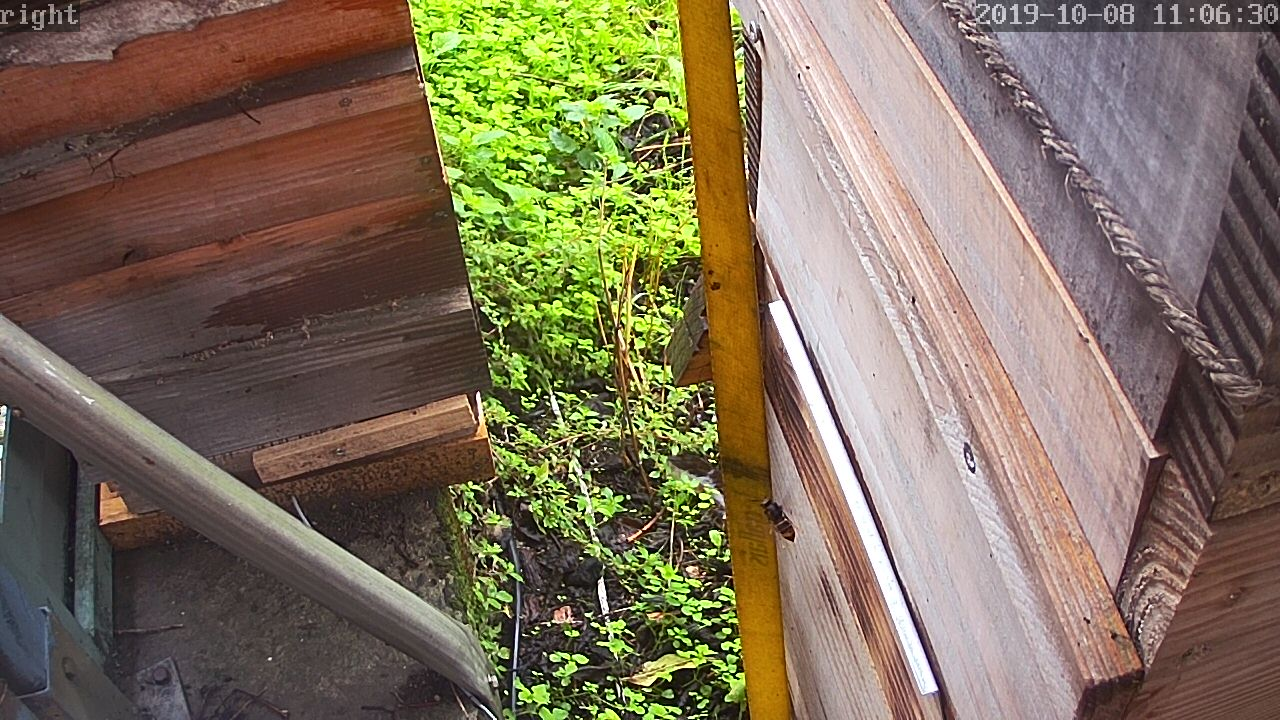hornet: (752, 490, 801, 549)
